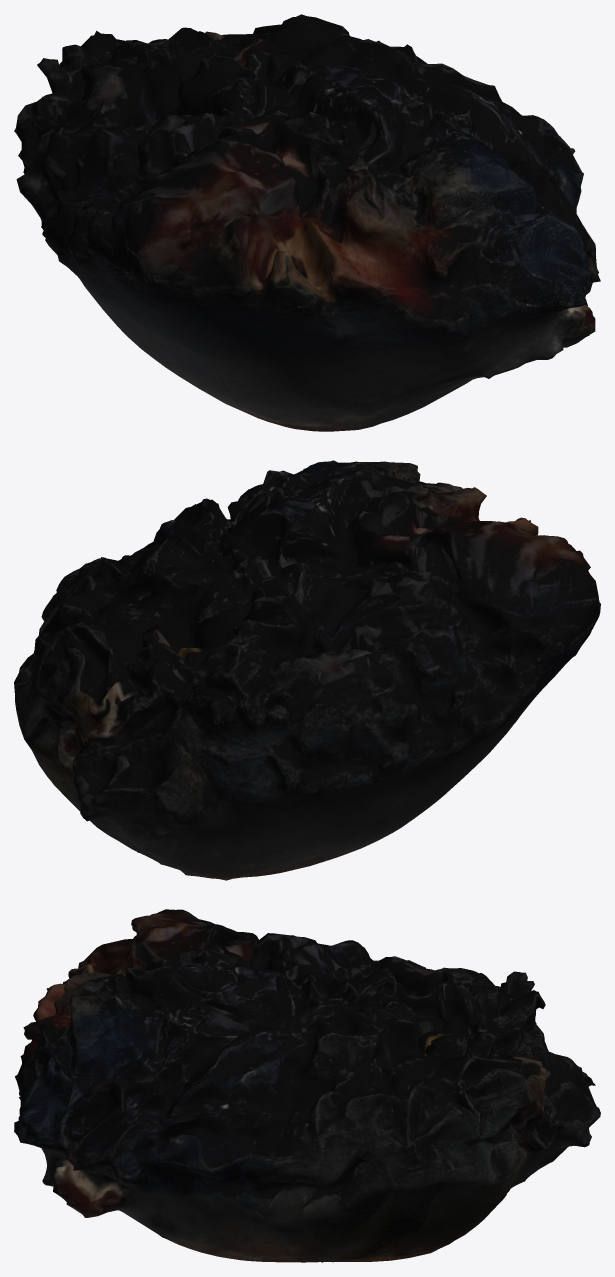
The model's file is jeong_ra_young_2.glb.
The picture shows the model from 3 angles, top to bottom: view 1: azimuth 30°, elevation 25°; view 2: azimuth 150°, elevation 25°; view 3: azimuth 270°, elevation 25°; orthographic projection. The views are drawn at different scales.
Visible parts, largest first — view 1: tripo_node_8628f03e-eed8-40ea-97f7-62354c270e65; view 2: tripo_node_8628f03e-eed8-40ea-97f7-62354c270e65; view 3: tripo_node_8628f03e-eed8-40ea-97f7-62354c270e65.
Part boxes in pixels (<box>): tripo_node_8628f03e-eed8-40ea-97f7-62354c270e65: <box>14,14,600,431</box>; tripo_node_8628f03e-eed8-40ea-97f7-62354c270e65: <box>14,460,600,880</box>; tripo_node_8628f03e-eed8-40ea-97f7-62354c270e65: <box>14,909,600,1262</box>.
Size of the model in its own units: 0.8154 by 0.5256 by 1.
Materials: 1 (1 with a texture image).
